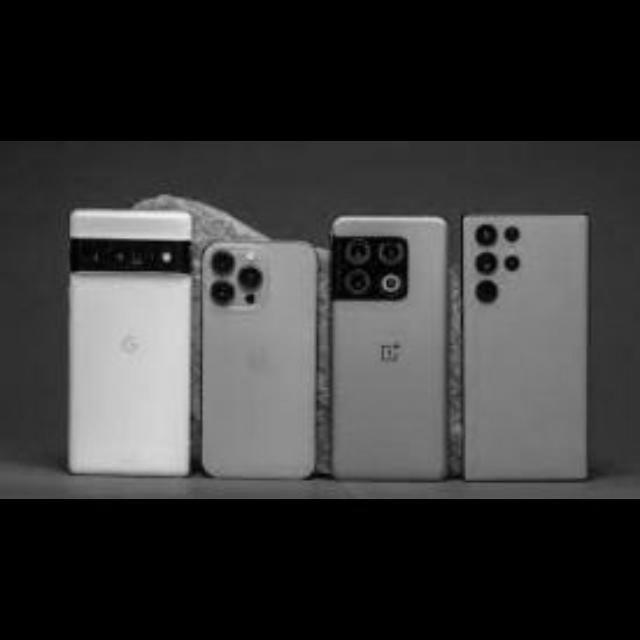fake: (449, 211, 609, 485), (72, 196, 214, 487), (322, 208, 438, 495)
